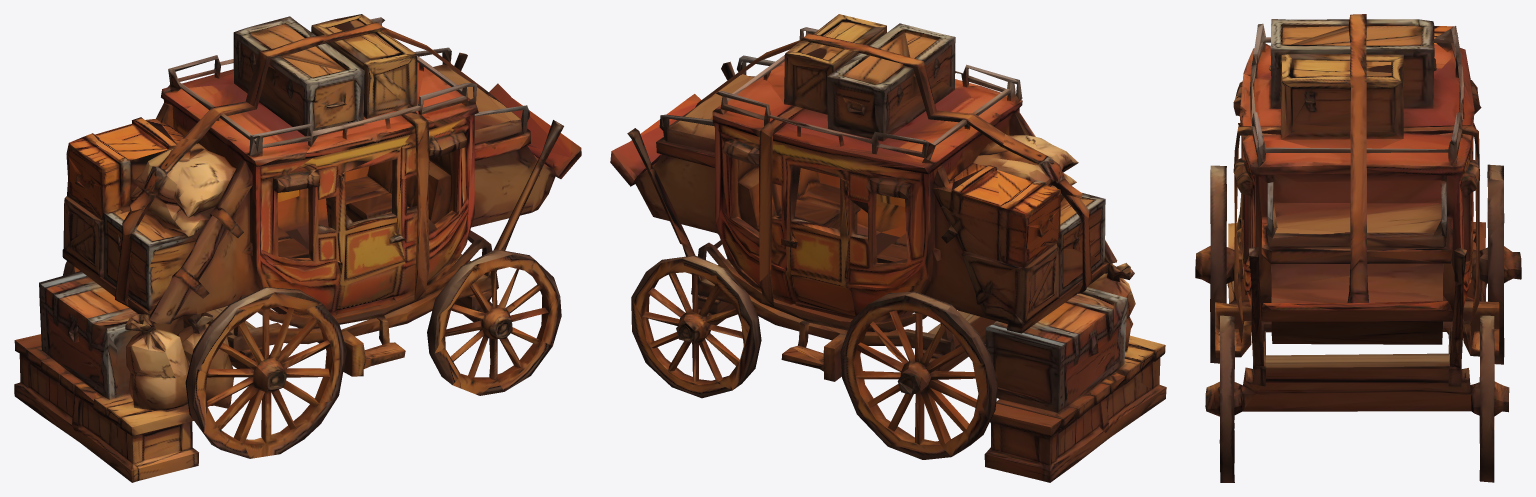
Rendered from wl_diligence.glb.
The picture shows the model from 3 angles, left to right: view 1: azimuth 30°, elevation 25°; view 2: azimuth 150°, elevation 25°; view 3: azimuth 270°, elevation 25°; orthographic projection. The views are drawn at different scales.
Visible parts, largest first — view 1: wl_diligence; view 2: wl_diligence; view 3: wl_diligence.
Part boxes in pixels (box(x1,y1,x2,y2)): wl_diligence: box(14, 14, 581, 482); wl_diligence: box(610, 14, 1166, 482); wl_diligence: box(1195, 14, 1521, 482).
Size of the model in its own units: 4.89 by 3.4 by 2.67.
1 material, 1 textured.
